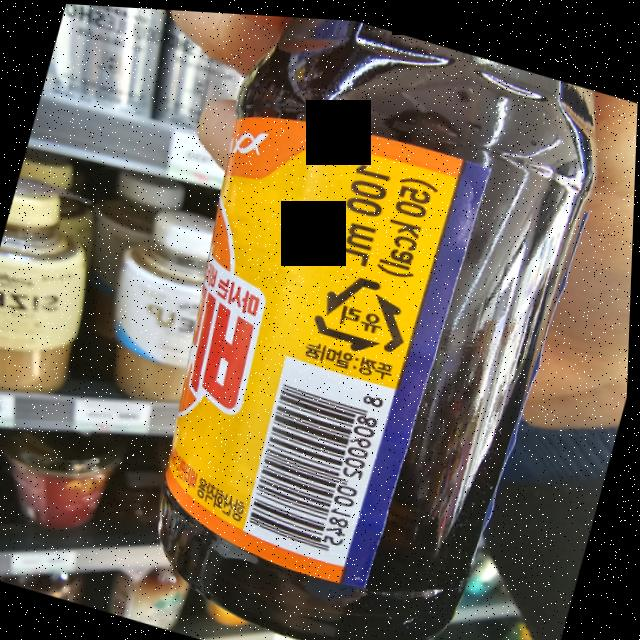Glass: (304, 254, 426, 364)
